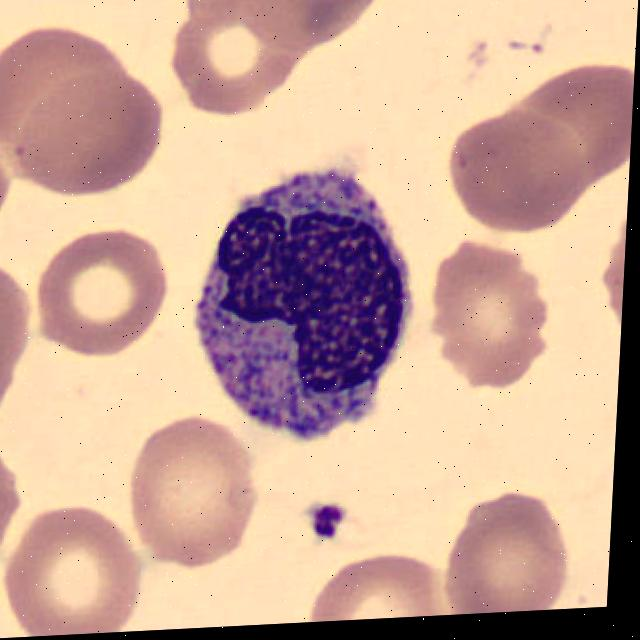monocyte: (189, 164, 421, 442)
platelets: (304, 486, 355, 548)
rbc: (115, 402, 282, 588), (10, 62, 190, 209), (417, 217, 561, 391), (431, 101, 593, 251), (162, 0, 316, 141), (9, 488, 153, 638), (506, 43, 636, 203), (36, 224, 173, 374), (0, 10, 134, 158), (443, 485, 584, 615), (289, 537, 448, 623), (221, 0, 389, 63), (0, 246, 45, 439), (0, 444, 24, 586)
